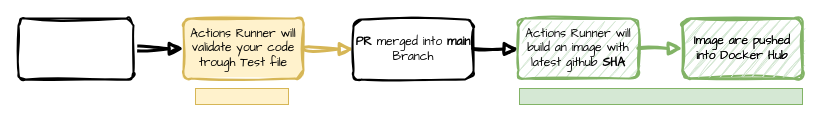
Image size: 820x122. Some labels were removed from this diagram. The centre of each missing label's shape, as x and y in pixels:
"CD Process" belongs at (x=660, y=96).
"CI Process" belongs at (x=241, y=96).
"PR made from New Branch into Main Branch" belongs at (x=75, y=48).
